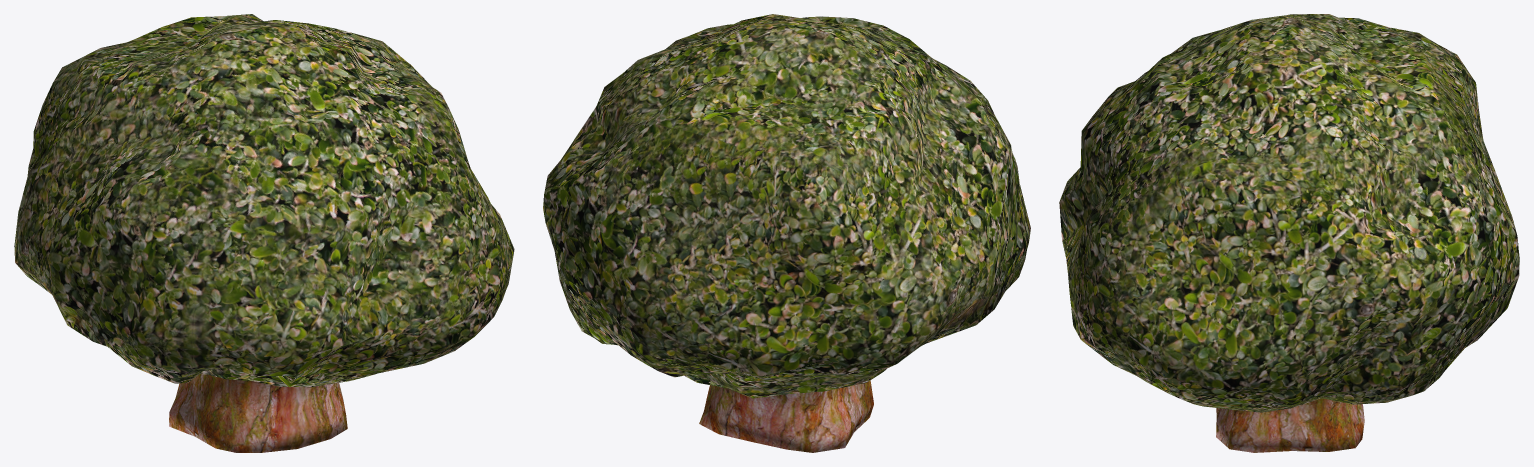
The model's file is bush.fbx.
The picture shows the model from 3 angles, left to right: view 1: azimuth 30°, elevation 25°; view 2: azimuth 150°, elevation 25°; view 3: azimuth 270°, elevation 25°; orthographic projection.
Visible parts, largest first — view 1: Bushy; view 2: Bushy; view 3: Bushy.
Boxes of the visible parts, x1=… form: Bushy: x1=14, y1=14, x2=514, y2=452; Bushy: x1=543, y1=14, x2=1030, y2=452; Bushy: x1=1059, y1=14, x2=1519, y2=452.
Bounding box in the file's own units: 51.79 × 47.84 × 51.08.
